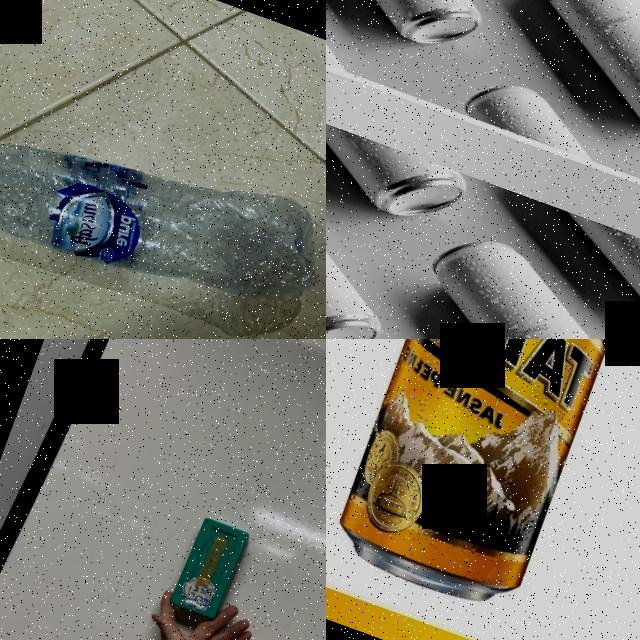bottle: (0, 75, 326, 336)
can: (326, 339, 640, 622), (388, 222, 640, 339), (326, 114, 429, 339), (489, 0, 640, 131), (326, 115, 474, 236), (462, 70, 606, 160)
